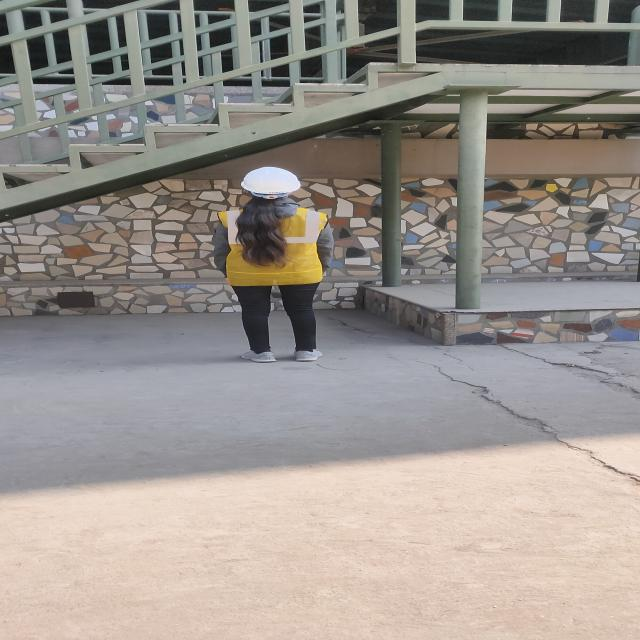safe: (214, 166, 334, 362)
